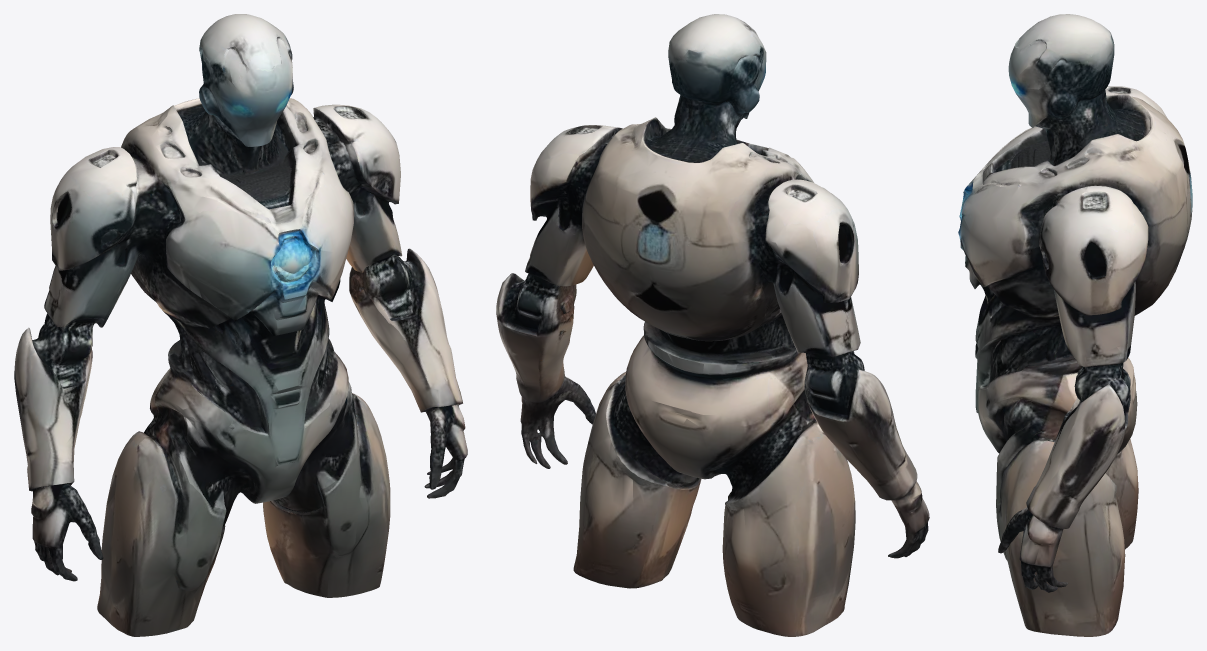
The model's file is robot.glb.
3 renders of one model, left to right at view 1: azimuth 30°, elevation 25°; view 2: azimuth 150°, elevation 25°; view 3: azimuth 270°, elevation 25°, orthographic. The views are drawn at different scales.
Parts seen in each view (by area): view 1: model; view 2: model; view 3: model.
Boxes of the visible parts, x1,y1,x2,y2 form: model: (14,14,467,636); model: (496,14,929,636); model: (958,14,1192,636).
Size of the model in its own units: 1.44 by 1.9 by 0.7242.
Materials: 1 (1 with a texture image).
